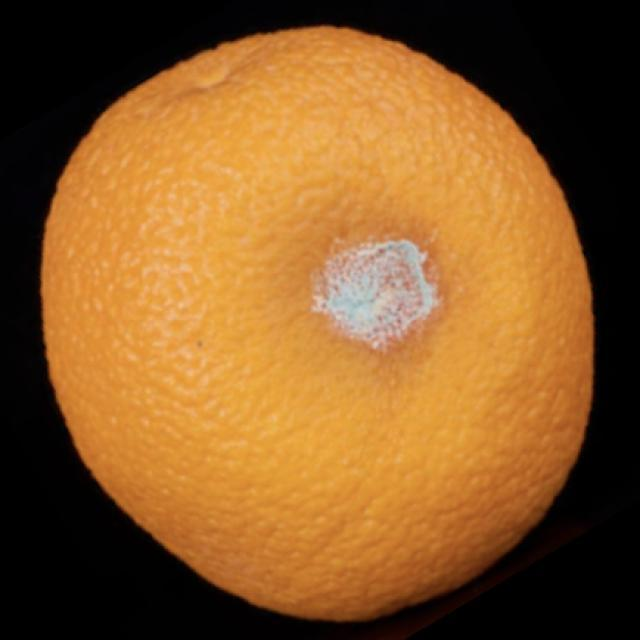sedikit-busuk: (42, 29, 592, 620), (314, 240, 438, 348)
